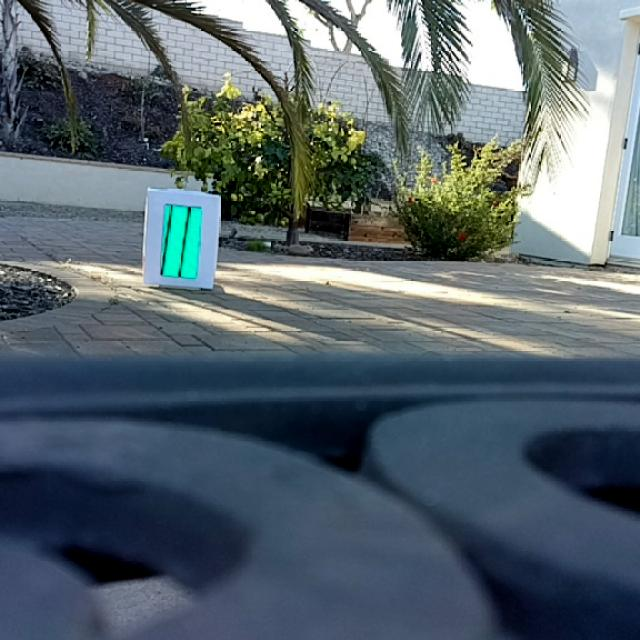led: (162, 203, 203, 278)
